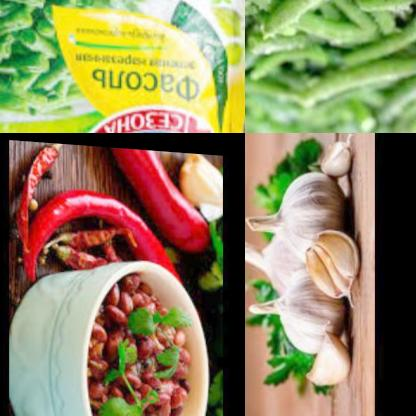fasol: (245, 0, 416, 133), (84, 269, 200, 416), (0, 0, 106, 133)
garlic: (245, 158, 350, 265), (246, 262, 353, 353), (245, 227, 309, 296), (302, 222, 358, 298), (306, 315, 356, 387), (183, 149, 223, 222), (318, 133, 353, 175)
hot pepper: (13, 178, 176, 279), (109, 144, 210, 250), (16, 139, 66, 257), (51, 216, 139, 251), (54, 245, 109, 269)
